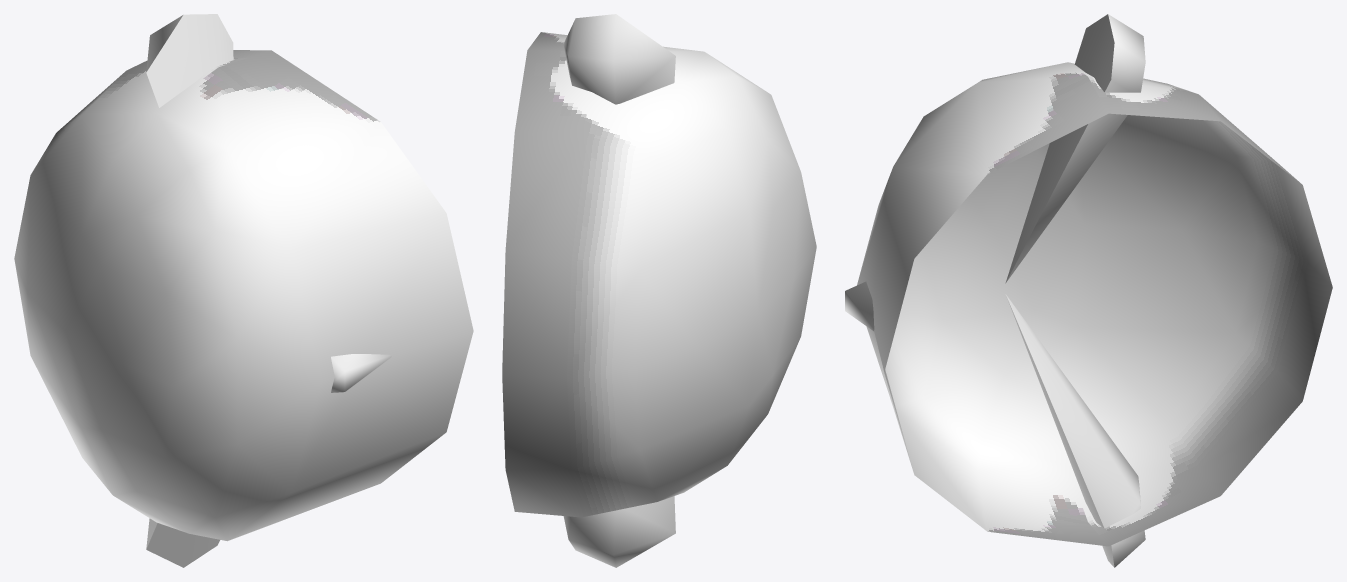
Rendered from boy03b.dae.
The picture shows the model from 3 angles, left to right: view 1: azimuth 30°, elevation 25°; view 2: azimuth 150°, elevation 25°; view 3: azimuth 270°, elevation 25°; orthographic projection.
Visible parts, largest first — view 1: boy03b; view 2: boy03b; view 3: boy03b.
Boxes of the visible parts, x1,y1,x2,y2 form: boy03b: [14, 14, 473, 567]; boy03b: [502, 14, 816, 567]; boy03b: [845, 14, 1332, 567].
Bounding box in the file's own units: 15.5 × 26.71 × 21.59.
3 materials, 1 textured.
